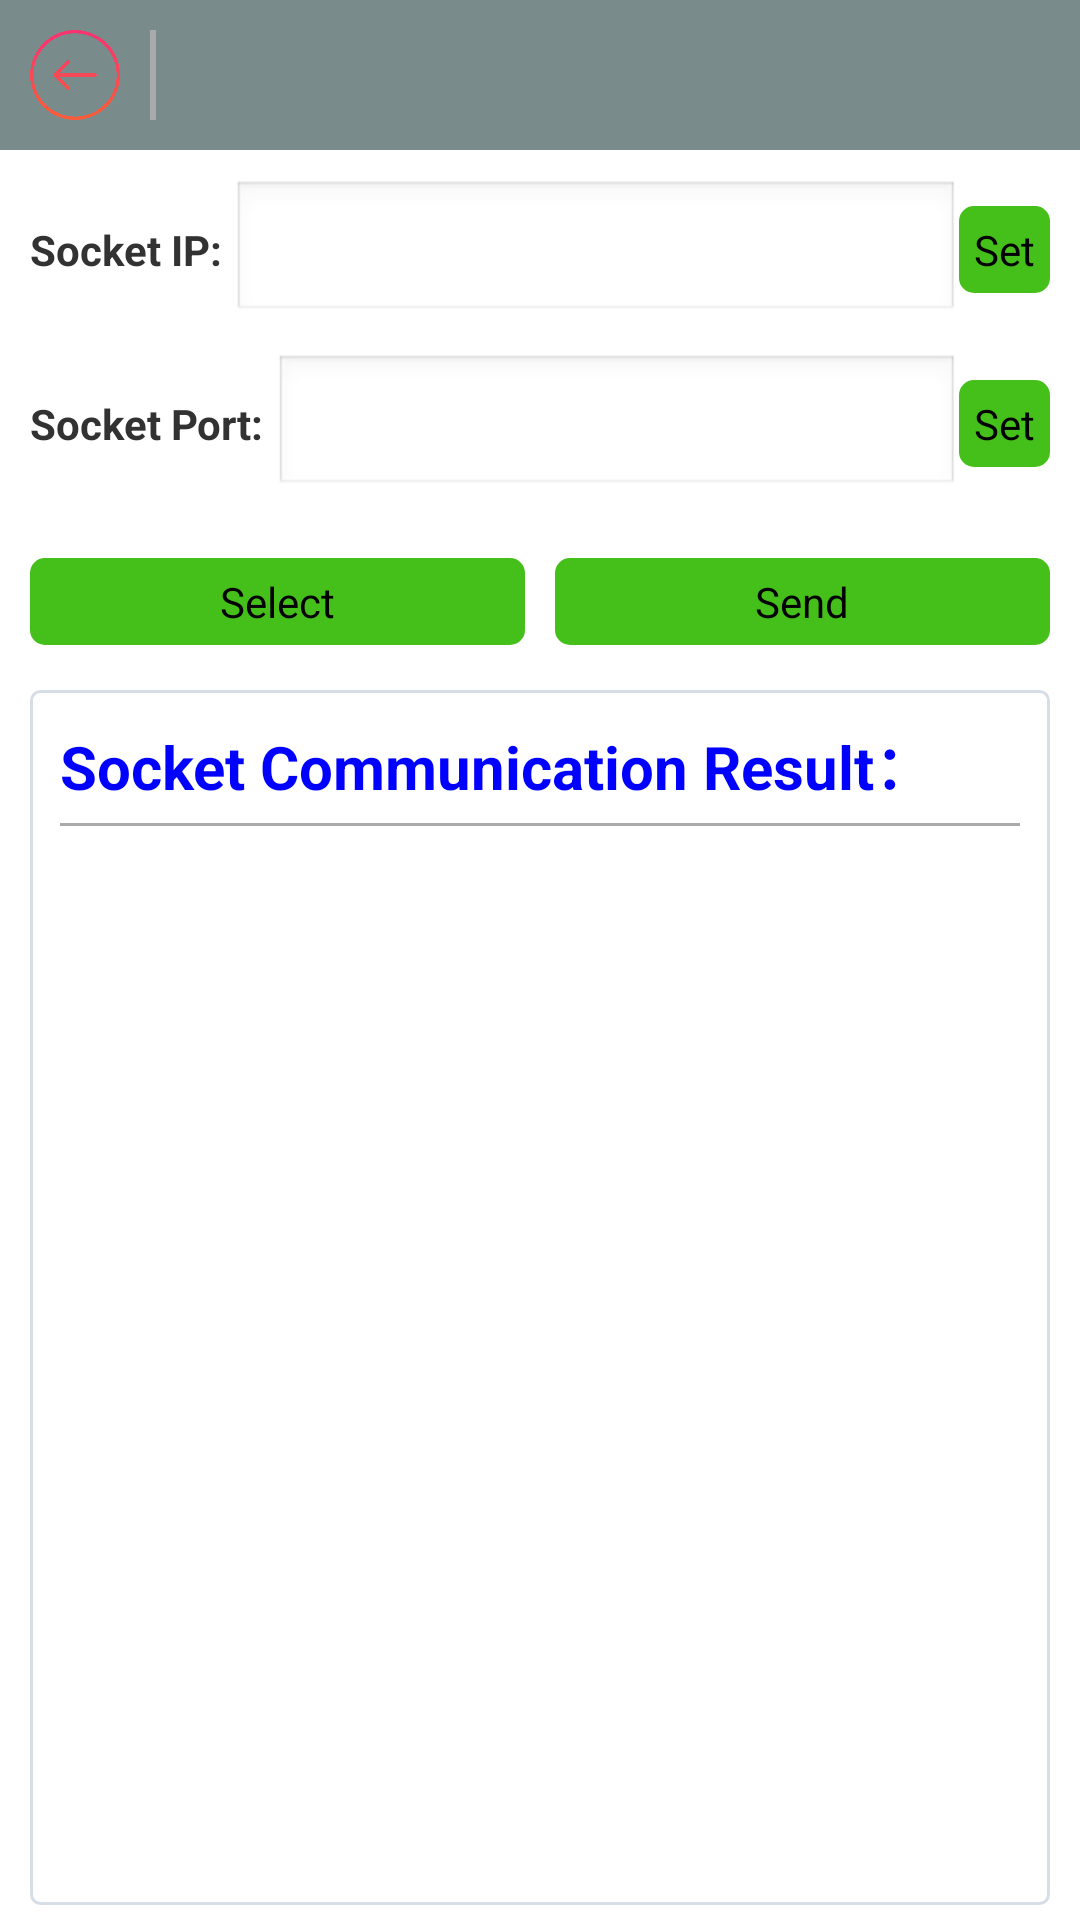

Icon click points for this 1080×1920 phone screenshot, format [x,y]:
return: [75,75]
